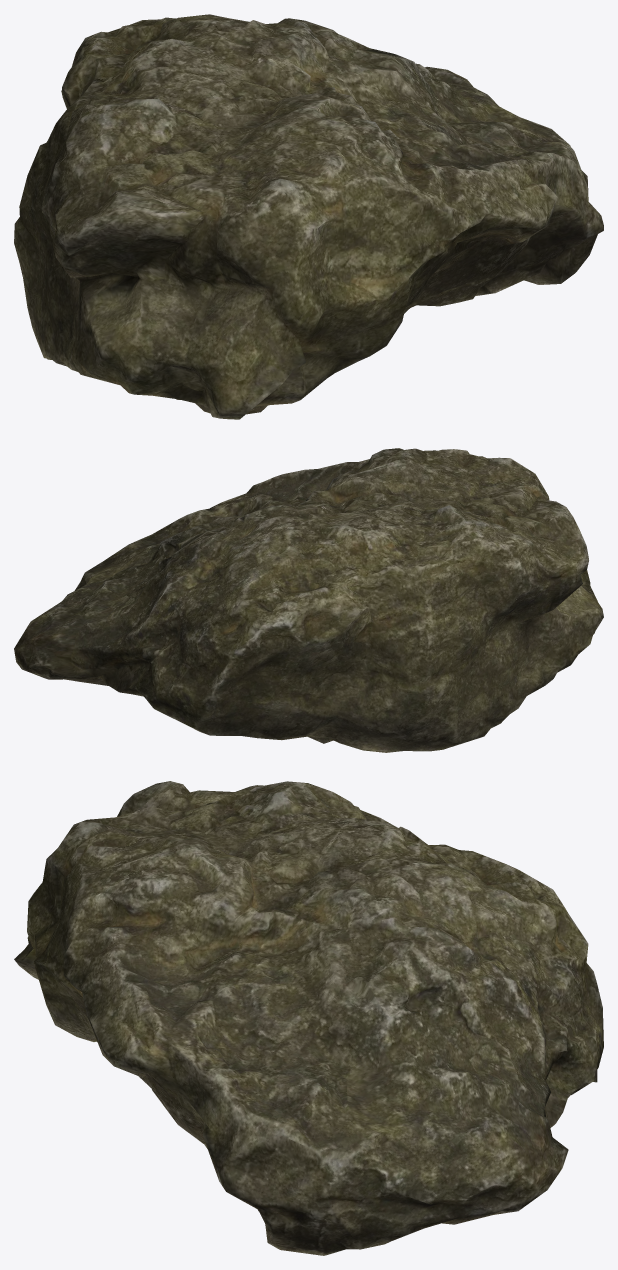
File: rock_moss_02_r12.glb
3 renders of one model, top to bottom at view 1: azimuth 30°, elevation 25°; view 2: azimuth 150°, elevation 25°; view 3: azimuth 270°, elevation 25°, orthographic. The views are drawn at different scales.
Visible parts, largest first — view 1: rock_moss_02_r12_LOD0; view 2: rock_moss_02_r12_LOD0; view 3: rock_moss_02_r12_LOD0.
Part boxes in pixels (x1,y1,x2,y2): rock_moss_02_r12_LOD0: (14, 14, 603, 419); rock_moss_02_r12_LOD0: (14, 448, 603, 752); rock_moss_02_r12_LOD0: (14, 781, 603, 1255).
Size of what is drawn, in the model's own units: 1.58 by 0.7361 by 1.44.
Materials: 1 (1 with a texture image).
